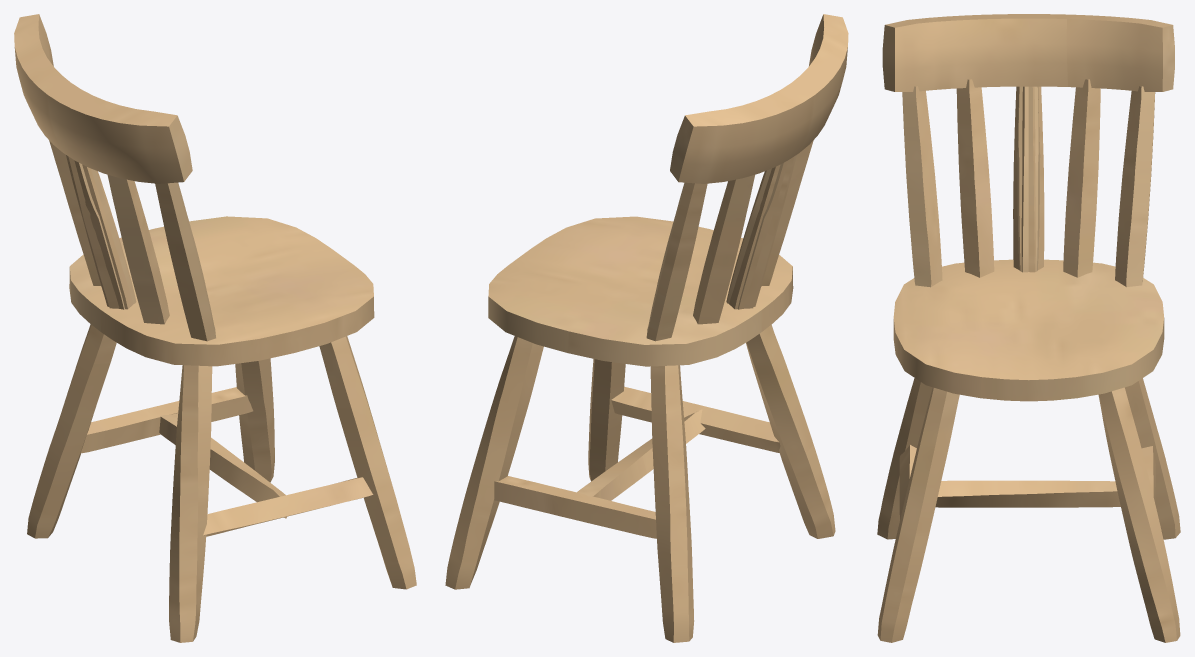
File: woodchair.glb
The picture shows the model from 3 angles, left to right: view 1: azimuth 30°, elevation 25°; view 2: azimuth 150°, elevation 25°; view 3: azimuth 270°, elevation 25°; orthographic projection. The views are drawn at different scales.
Visible parts, largest first — view 1: desk.007_Baked.001; view 2: desk.007_Baked.001; view 3: desk.007_Baked.001.
Boxes of the visible parts, left/top/right/bottom form: desk.007_Baked.001: left=14, top=14, right=416, bottom=642; desk.007_Baked.001: left=445, top=14, right=848, bottom=642; desk.007_Baked.001: left=877, top=14, right=1180, bottom=642.
Size of the model in its own units: 0.494 by 0.8351 by 0.4527.
Materials: 1 (1 with a texture image).
